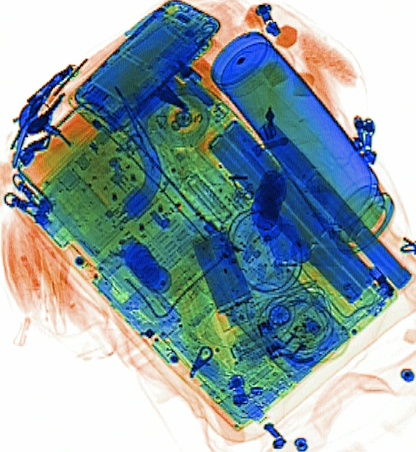powerbank: (190, 223, 256, 333)
